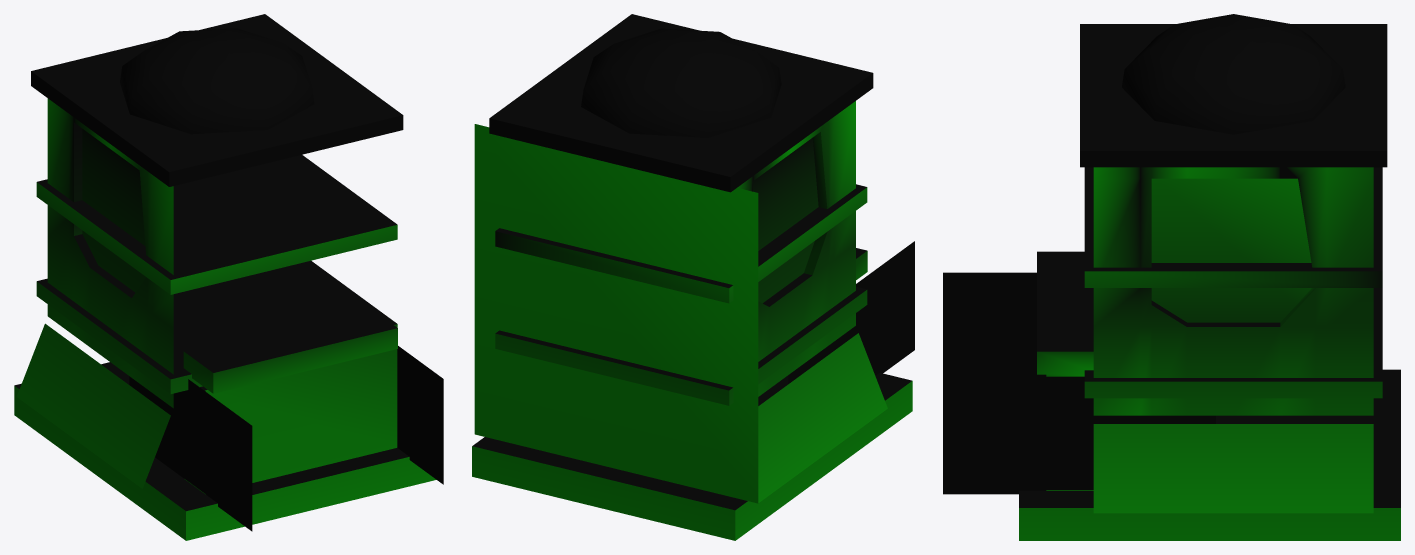
File: s_lightpost.glb
3 views of the same model, side by side, from view 1: azimuth 30°, elevation 25°; view 2: azimuth 150°, elevation 25°; view 3: azimuth 270°, elevation 25° (orthographic). The views are drawn at different scales.
Parts seen in each view (by area): view 1: lod0; view 2: lod0; view 3: lod0.
Part boxes in pixels (x1=…): lod0: x1=14, y1=14, x2=443, y2=540; lod0: x1=472, y1=14, x2=914, y2=540; lod0: x1=943, y1=14, x2=1400, y2=540.
Size of what is drawn, in the model's own units: 3.88 by 5.36 by 5.03.
